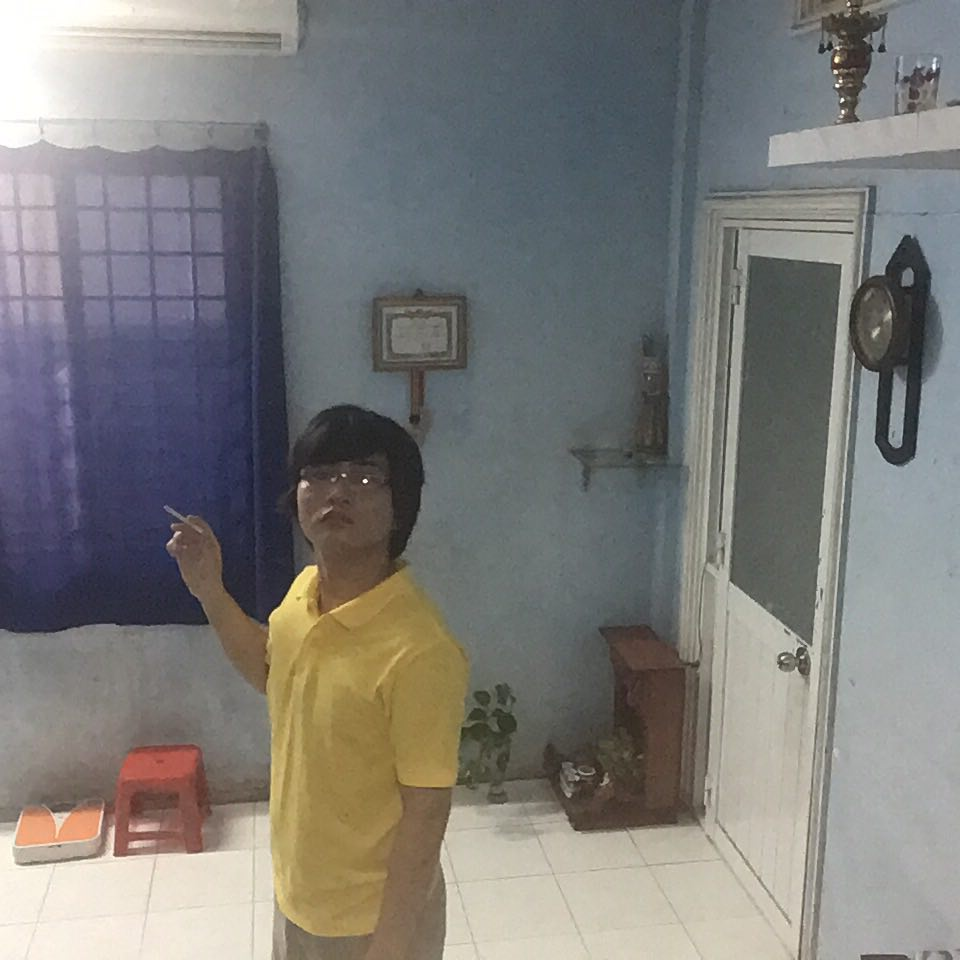cigarette: (159, 501, 188, 525)
person: (163, 393, 474, 958)
